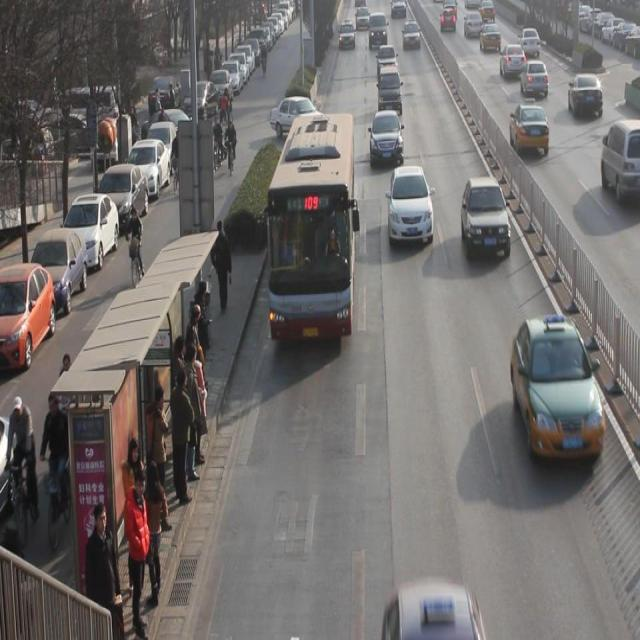car: (511, 316, 605, 464), (462, 179, 511, 261), (387, 166, 434, 244), (269, 96, 326, 142), (509, 101, 550, 156), (371, 110, 404, 168), (568, 74, 604, 118), (521, 60, 548, 100), (500, 44, 526, 78), (518, 28, 541, 59), (480, 20, 501, 52), (402, 19, 422, 50), (464, 11, 484, 39), (378, 45, 398, 72), (339, 20, 356, 50), (440, 8, 457, 33)
truck: (601, 122, 640, 206), (378, 68, 402, 114), (369, 12, 388, 48)
van: (266, 115, 354, 341)
